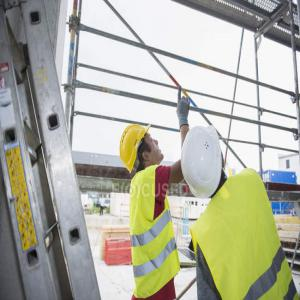white: (182, 125, 226, 205)
yellow: (122, 127, 166, 180)
